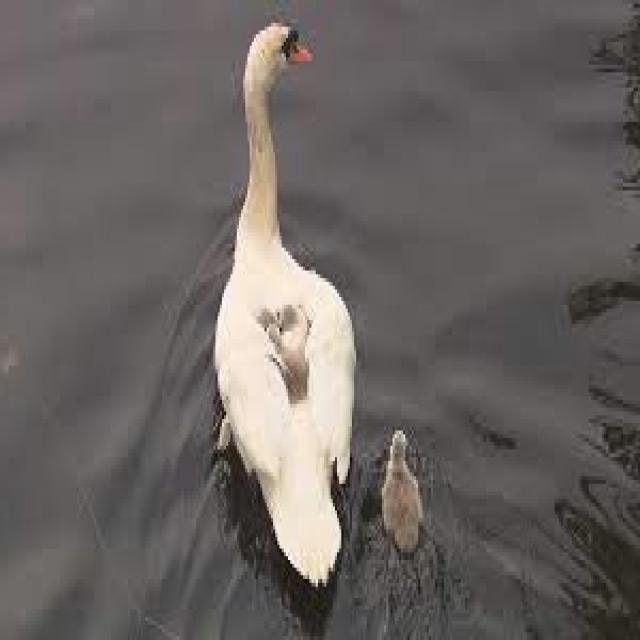swan: (211, 23, 354, 583), (384, 430, 425, 549)
